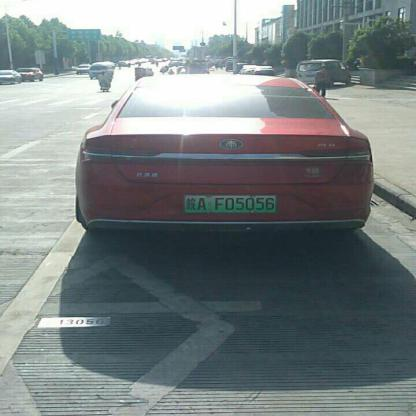lp: (183, 194, 276, 213)
